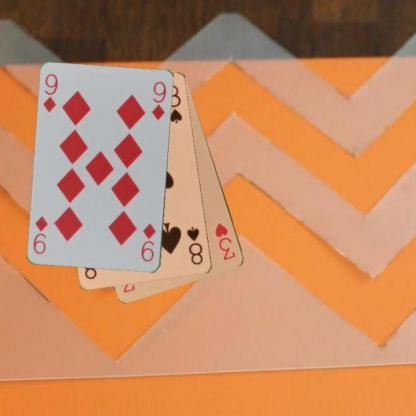3h: (212, 220, 237, 262)
8s: (184, 224, 204, 266)
9d: (40, 71, 60, 114), (139, 221, 158, 263)
